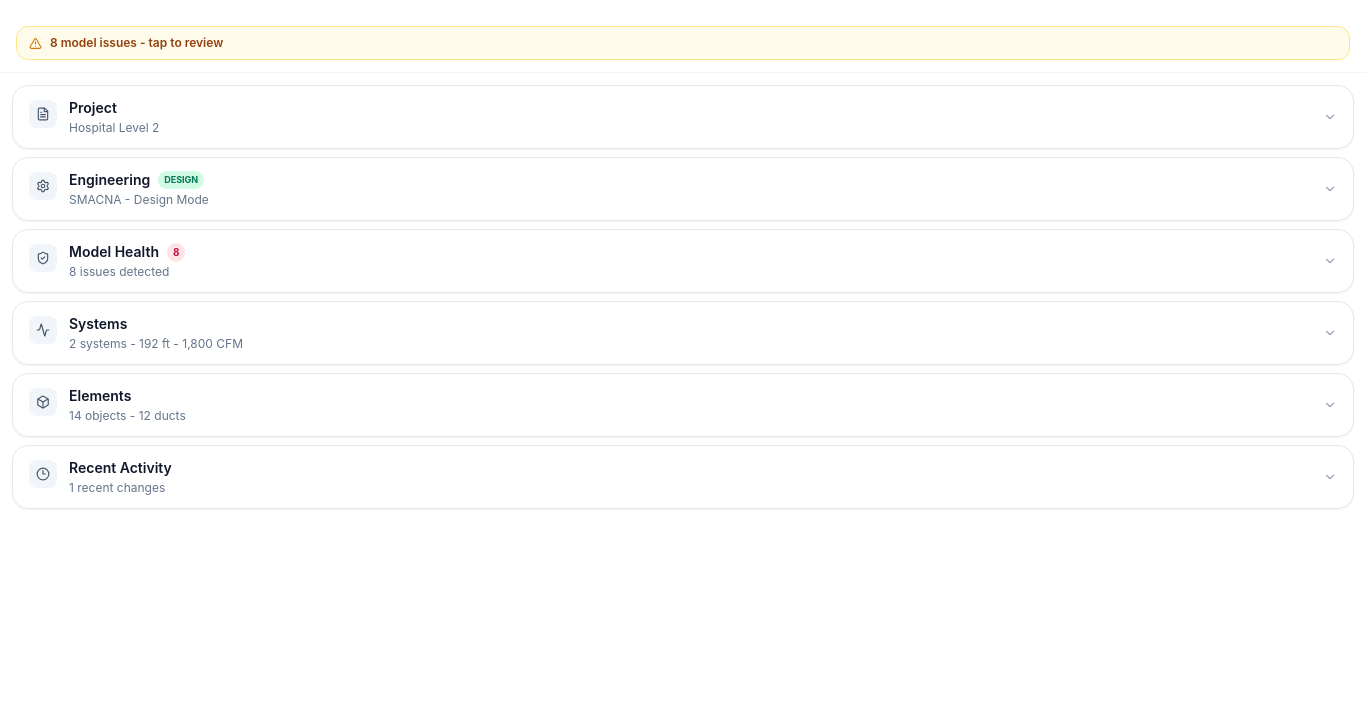
Test case: InspectorOverviewPanel › uses readable project copy when the project number is not set
Expected: the button "project" does not show "Not set"
Click the button "Project Hospital Level 2" at [93, 108], box x1=13 y1=86 x2=1353 y2=148
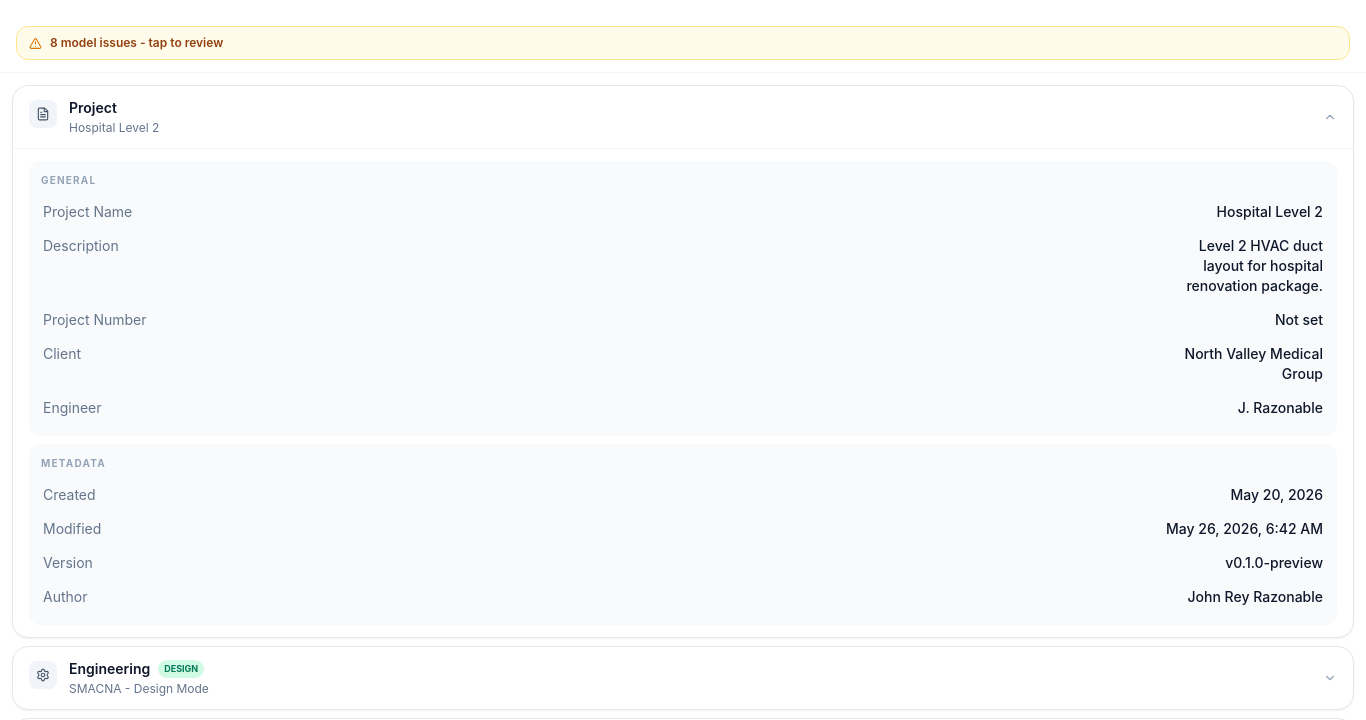
Now the text "Not set" is shown, box x1=1275 y1=310 x2=1323 y2=330
